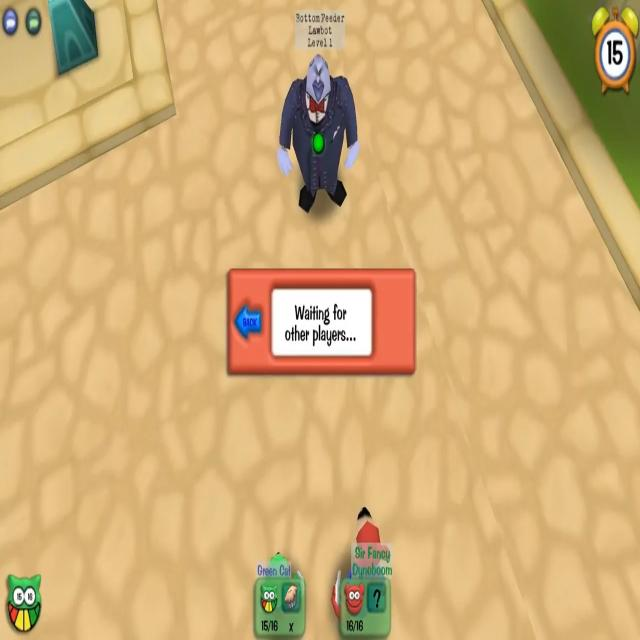bottomfeeder: (276, 11, 358, 218)
